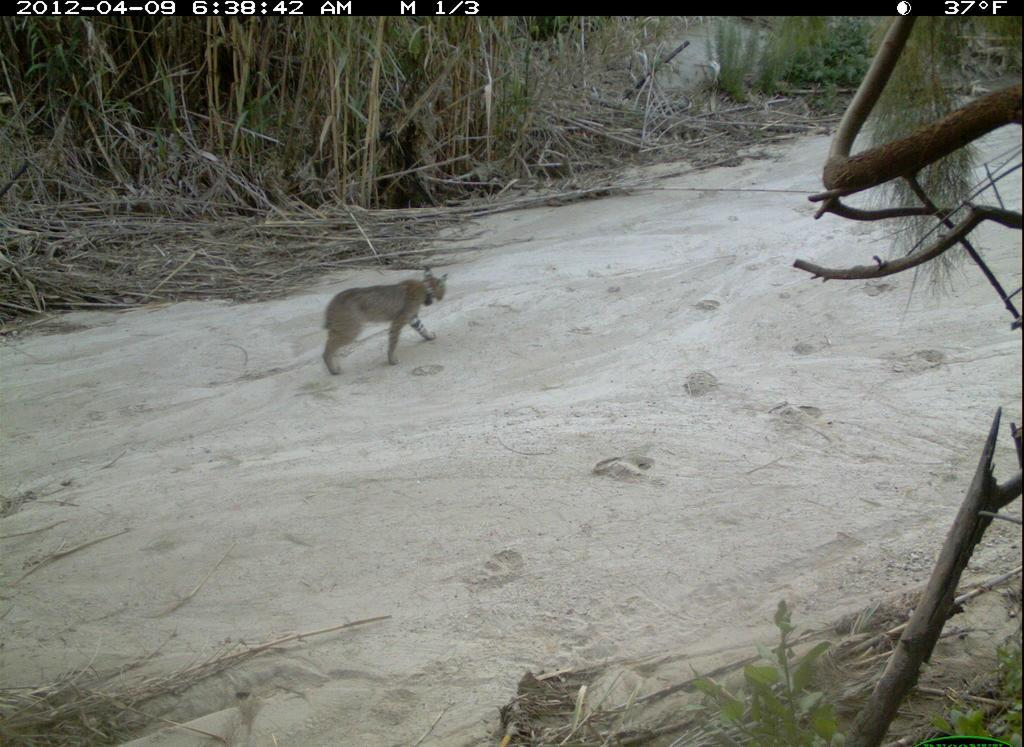bobcat: (313, 262, 452, 382)
